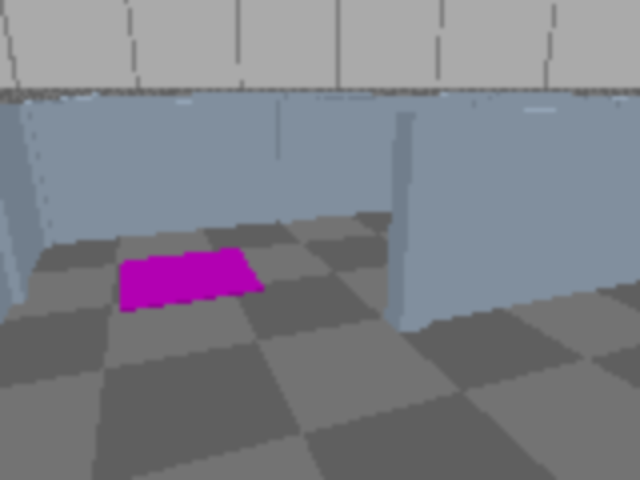goal_zone: (118, 248, 265, 313)
